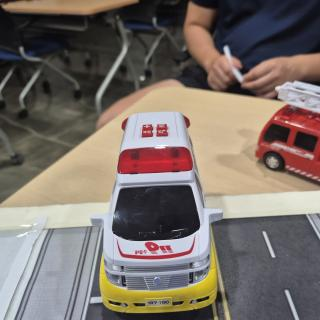Ambulance: (90, 112, 223, 313)
